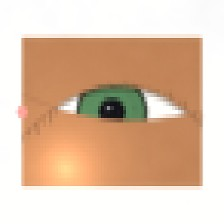hemorrhage_spot: (69, 72, 160, 145)
